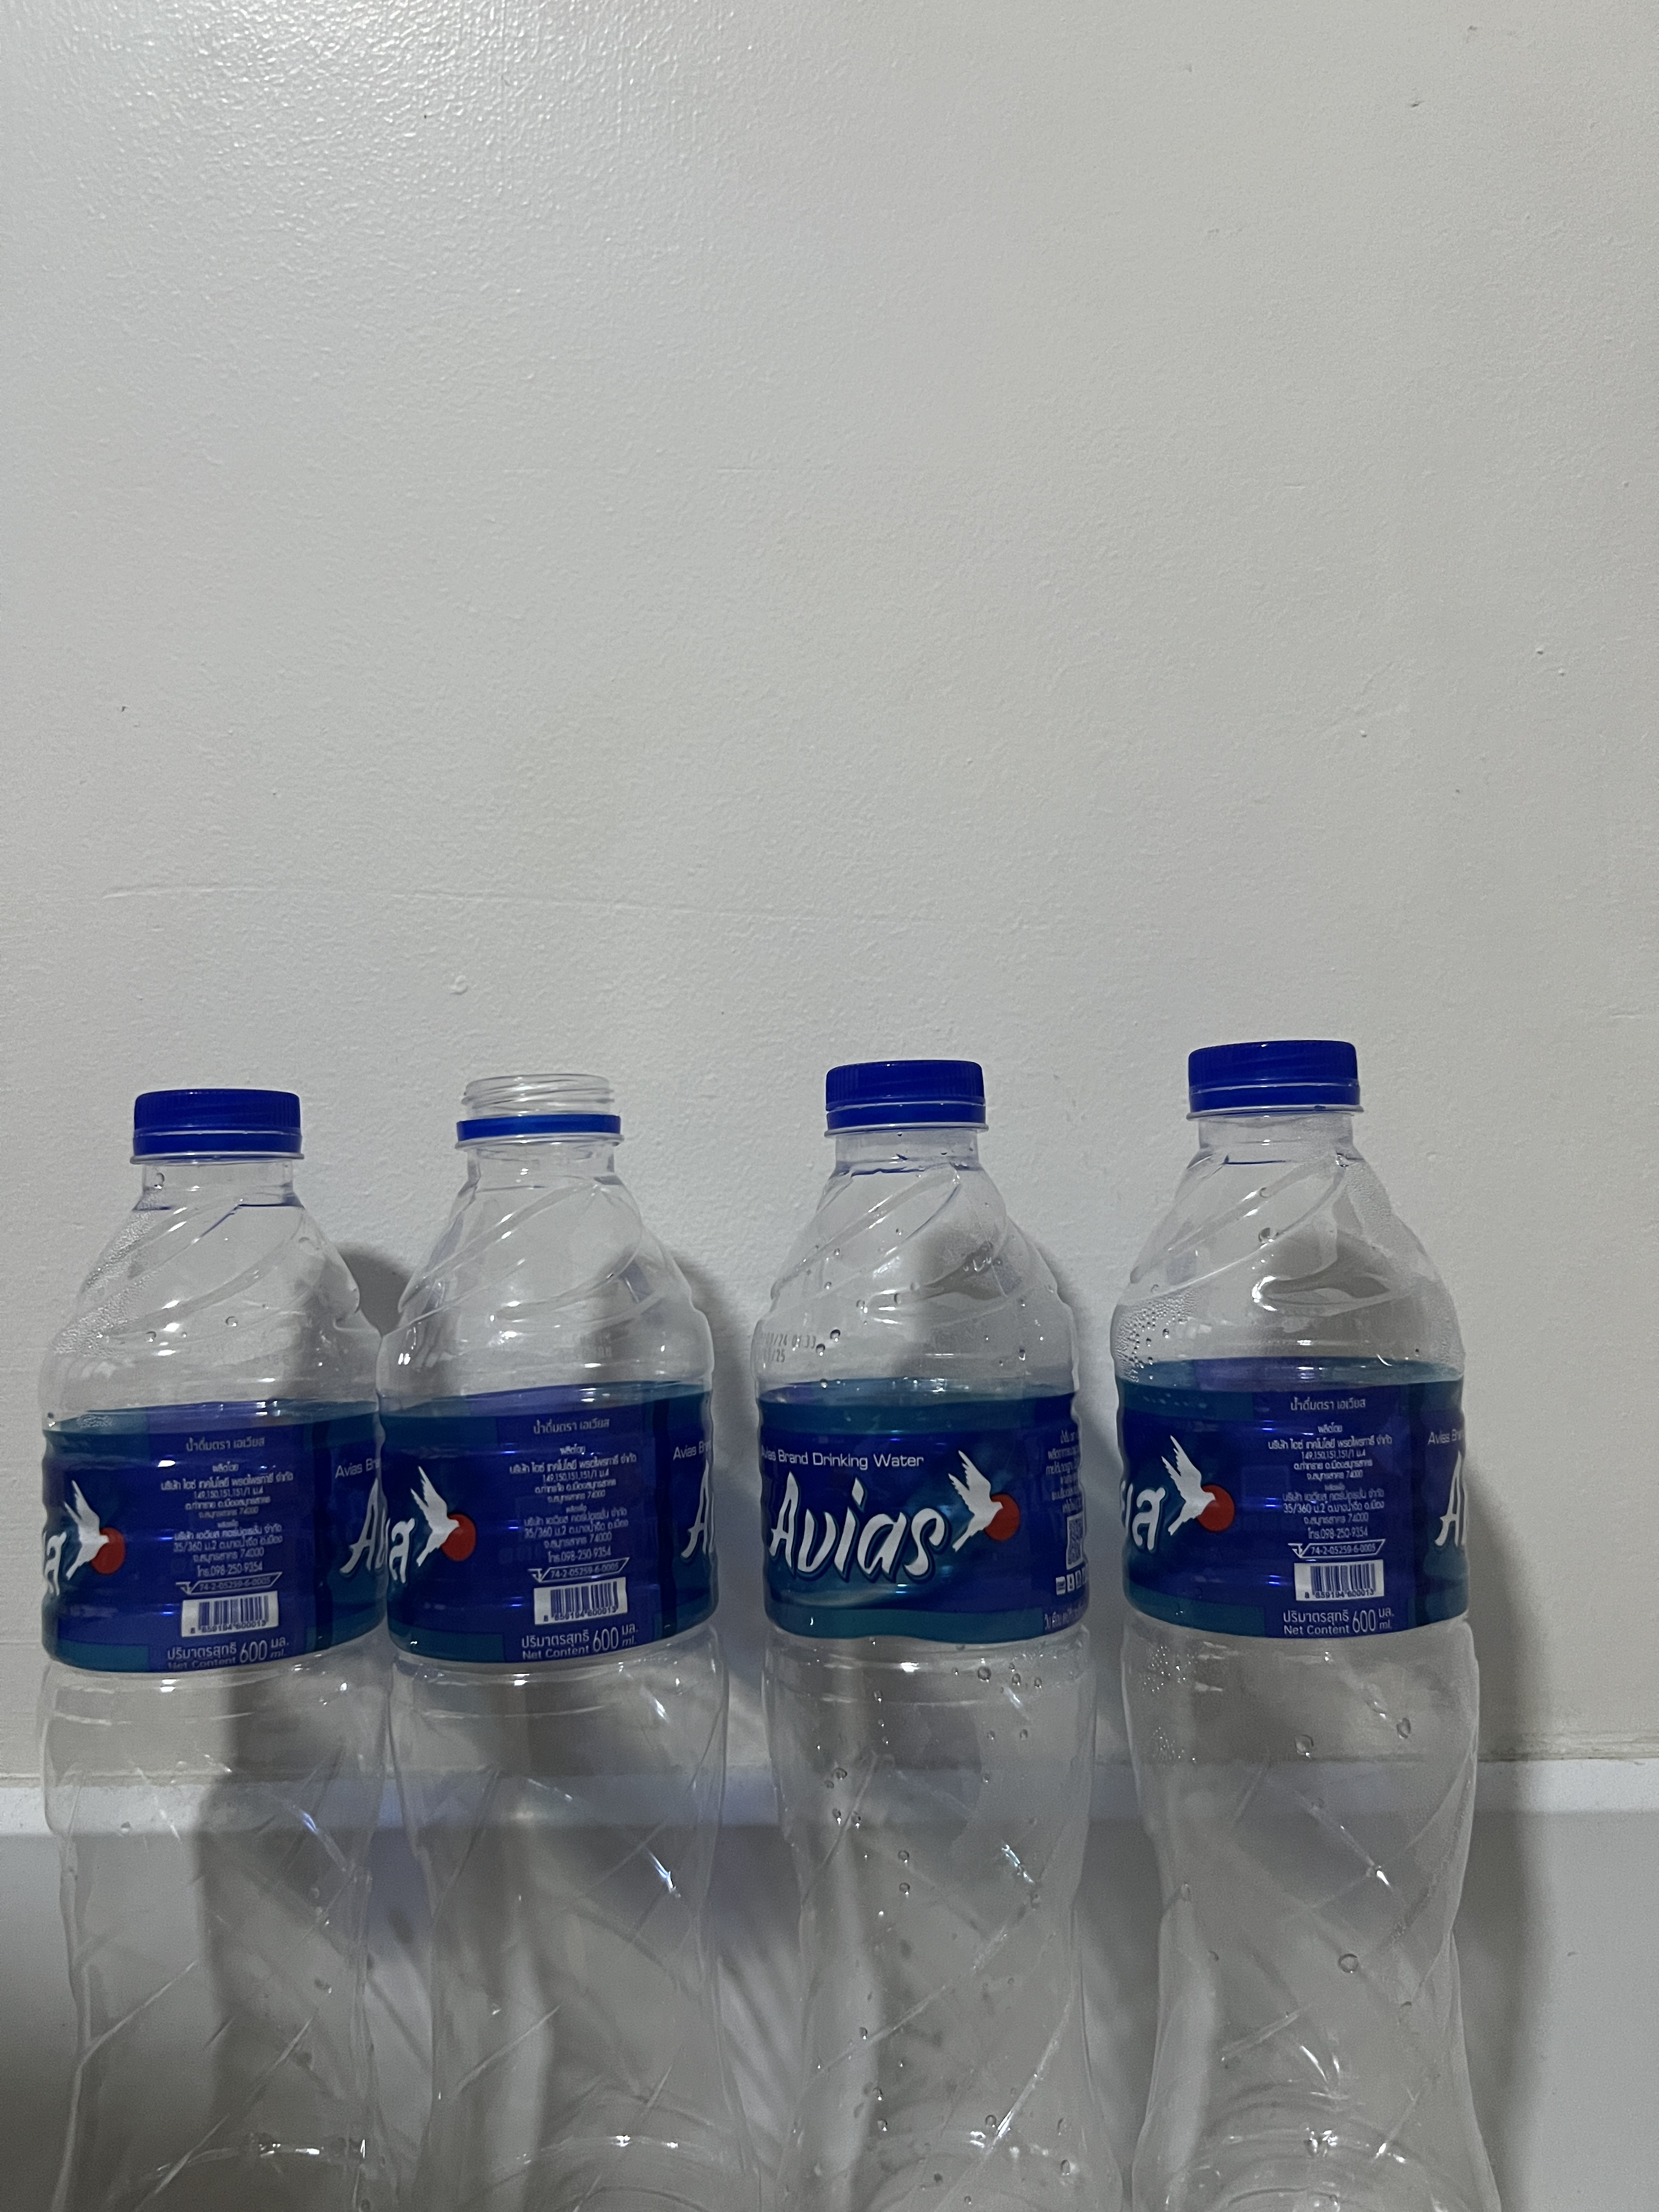plastic_bottle: (1080, 989, 1544, 2212), (728, 1010, 1131, 2212), (375, 1038, 758, 2212), (26, 1064, 416, 2212)
